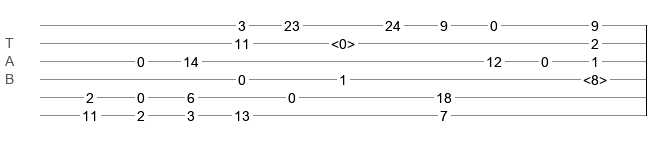0: (137, 54, 145, 64), (137, 90, 145, 100), (238, 72, 246, 82), (288, 90, 296, 100), (490, 18, 498, 28), (541, 54, 549, 64)
1: (339, 72, 347, 82), (591, 54, 599, 64)
11: (82, 108, 98, 118), (234, 36, 250, 46)
12: (486, 54, 502, 64)
13: (234, 108, 250, 118)
14: (183, 54, 199, 64)
18: (436, 90, 452, 100)
2: (86, 90, 94, 100), (137, 108, 145, 118), (591, 36, 599, 46)
23: (284, 18, 300, 28)
24: (385, 18, 401, 28)
3: (187, 108, 195, 118), (238, 18, 246, 28)
6: (187, 90, 195, 100)
7: (440, 108, 448, 118)
9: (440, 18, 448, 28), (591, 18, 599, 28)
harmonic: (331, 36, 355, 46), (583, 72, 607, 82)
